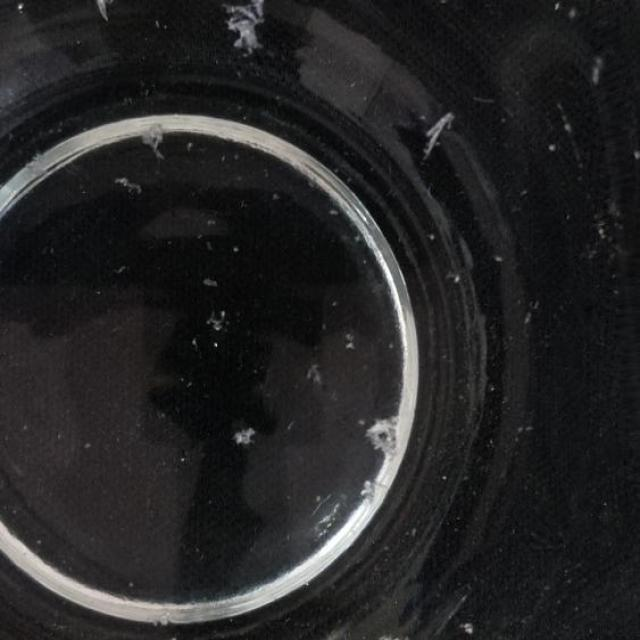fiber: (360, 412, 416, 466), (225, 3, 271, 55), (414, 109, 456, 155), (142, 122, 173, 154), (358, 474, 388, 504), (208, 308, 232, 337), (232, 418, 255, 446), (551, 1, 581, 22), (118, 172, 144, 195), (458, 616, 478, 639), (590, 50, 602, 86), (306, 361, 323, 386), (344, 330, 361, 353), (523, 302, 535, 333), (514, 422, 537, 438), (92, 2, 114, 16), (202, 277, 220, 290), (547, 136, 558, 154), (493, 250, 507, 264), (451, 266, 461, 284), (328, 205, 338, 220), (232, 240, 240, 258), (427, 232, 439, 242), (268, 192, 281, 200), (633, 148, 640, 162), (15, 4, 30, 8)
